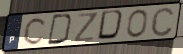C: (149, 5, 176, 38), (22, 16, 49, 46)
D: (96, 9, 127, 42), (46, 13, 75, 46)
O: (126, 8, 149, 39)
Z: (73, 11, 99, 44)
